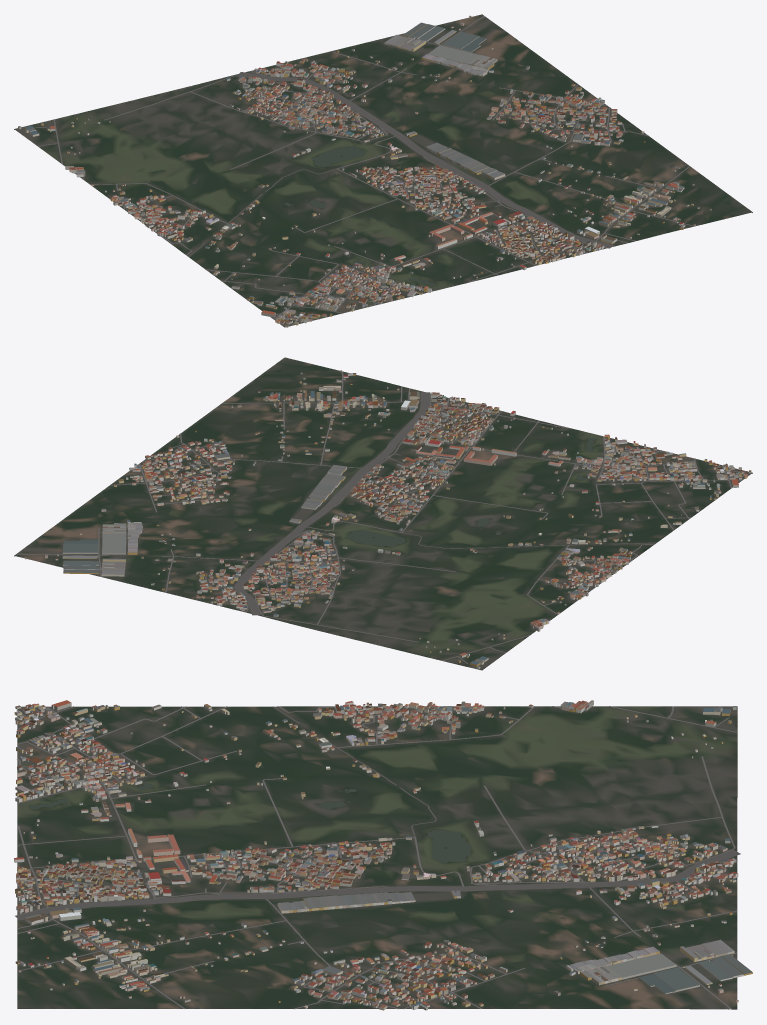
The picture shows the model from 3 angles, top to bottom: view 1: azimuth 30°, elevation 25°; view 2: azimuth 150°, elevation 25°; view 3: azimuth 270°, elevation 25°; orthographic projection. The views are drawn at different scales.
Visible parts, largest first — view 1: ground, buildings, roads, water; view 2: ground, buildings, roads, water; view 3: ground, buildings, roads, water.
Part boxes in pixels (box(x1,y1,x2,y2)): ground: box(14, 14, 752, 327); buildings: box(18, 15, 711, 327); roads: box(35, 16, 694, 326); water: box(284, 146, 436, 286); ground: box(14, 357, 752, 670); buildings: box(25, 370, 751, 669); roads: box(16, 371, 747, 663); water: box(346, 438, 595, 547); ground: box(17, 706, 737, 1009); buildings: box(14, 700, 752, 1010); roads: box(15, 706, 740, 1009); water: box(29, 783, 470, 863).
Bounding box in the file's own units: 1420 × 17.26 × 1438.
